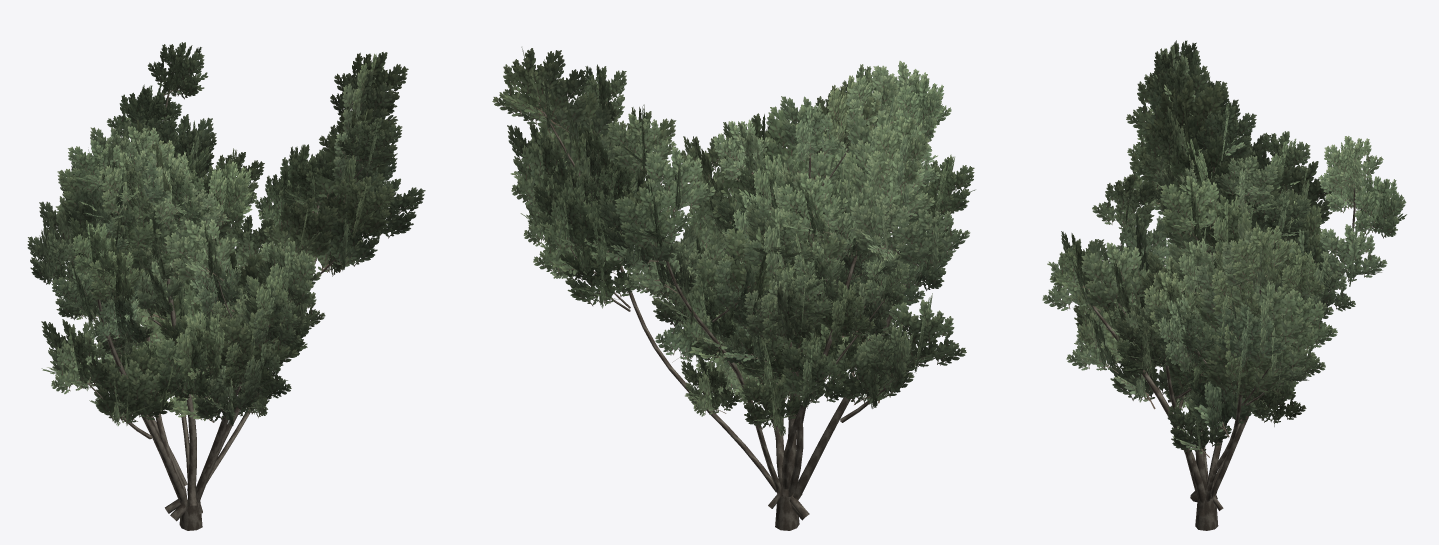
Rendered from hooker_willow.glb.
The picture shows the model from 3 angles, left to right: view 1: azimuth 30°, elevation 25°; view 2: azimuth 150°, elevation 25°; view 3: azimuth 270°, elevation 25°; orthographic projection. The views are drawn at different scales.
Visible parts, largest first — view 1: hooker_willow_lod0; view 2: hooker_willow_lod0; view 3: hooker_willow_lod0.
Boxes of the visible parts, bbox=[...] form: hooker_willow_lod0: bbox=[27, 42, 425, 530]; hooker_willow_lod0: bbox=[492, 47, 975, 530]; hooker_willow_lod0: bbox=[1042, 40, 1406, 530].
Size of what is drawn, in the model's own units: 5.36 by 5.57 by 4.47.
2 materials, 2 textured.
